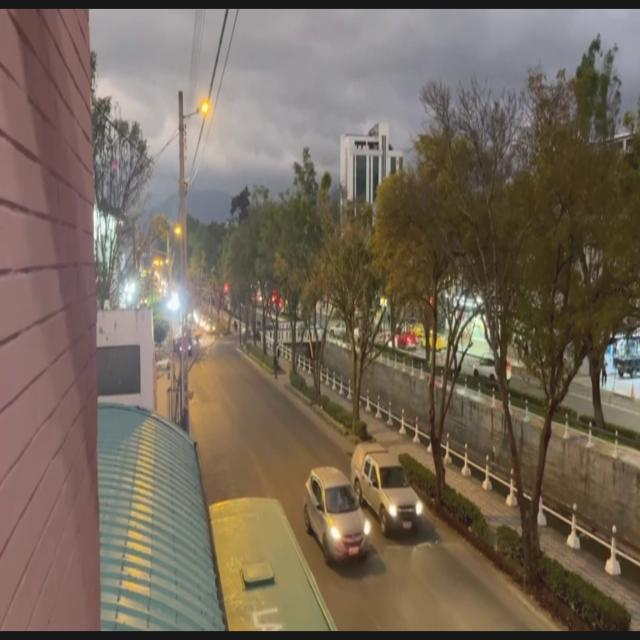CMT: (357, 446, 422, 534)
SUV: (308, 470, 358, 562)
